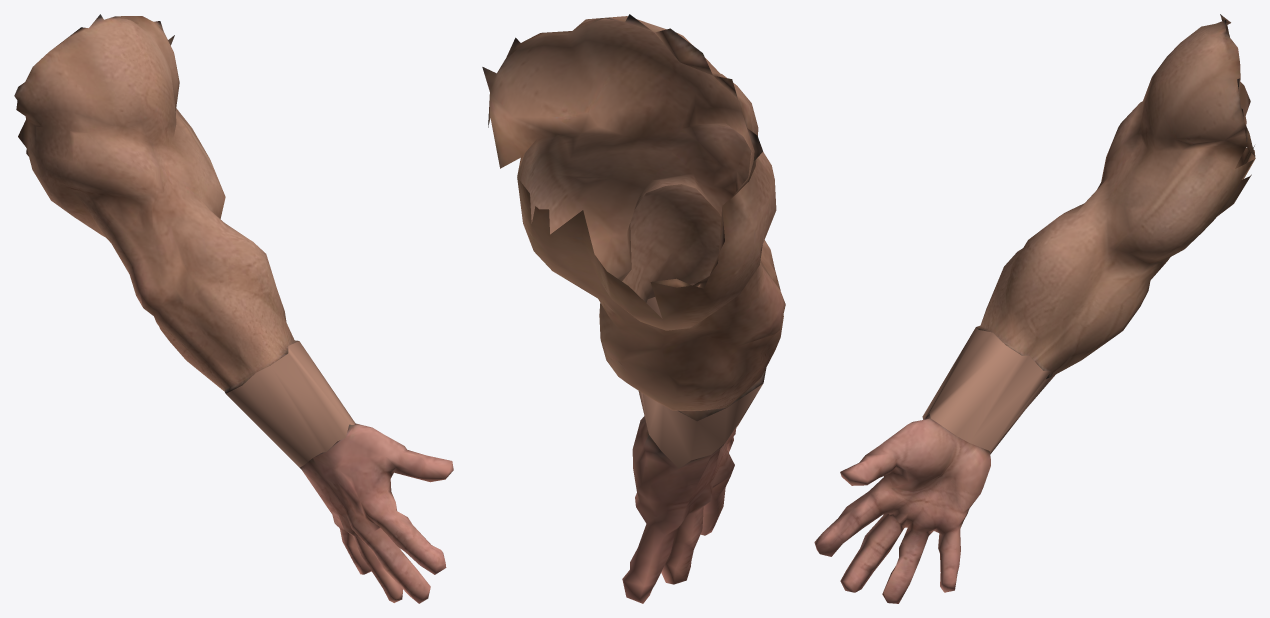
File: body_arm_R.glb
The picture shows the model from 3 angles, left to right: view 1: azimuth 30°, elevation 25°; view 2: azimuth 150°, elevation 25°; view 3: azimuth 270°, elevation 25°; orthographic projection. The views are drawn at different scales.
Parts seen in each view (by area): view 1: body_arm_R; view 2: body_arm_R; view 3: body_arm_R.
Boxes of the visible parts, x1,y1,x2,y2 form: body_arm_R: [14, 14, 453, 603]; body_arm_R: [482, 14, 785, 603]; body_arm_R: [814, 14, 1255, 603].
Bounding box in the file's own units: 0.2067 × 0.3882 × 0.3004.
Materials: 2 (2 with a texture image).
